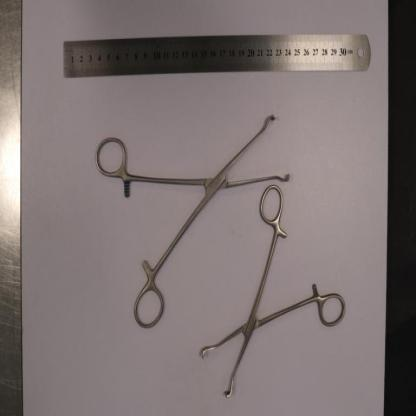8 Babcock Tissue Forceps: (95, 114, 291, 327)
Babcock Tissue Forceps: (202, 184, 344, 395)
